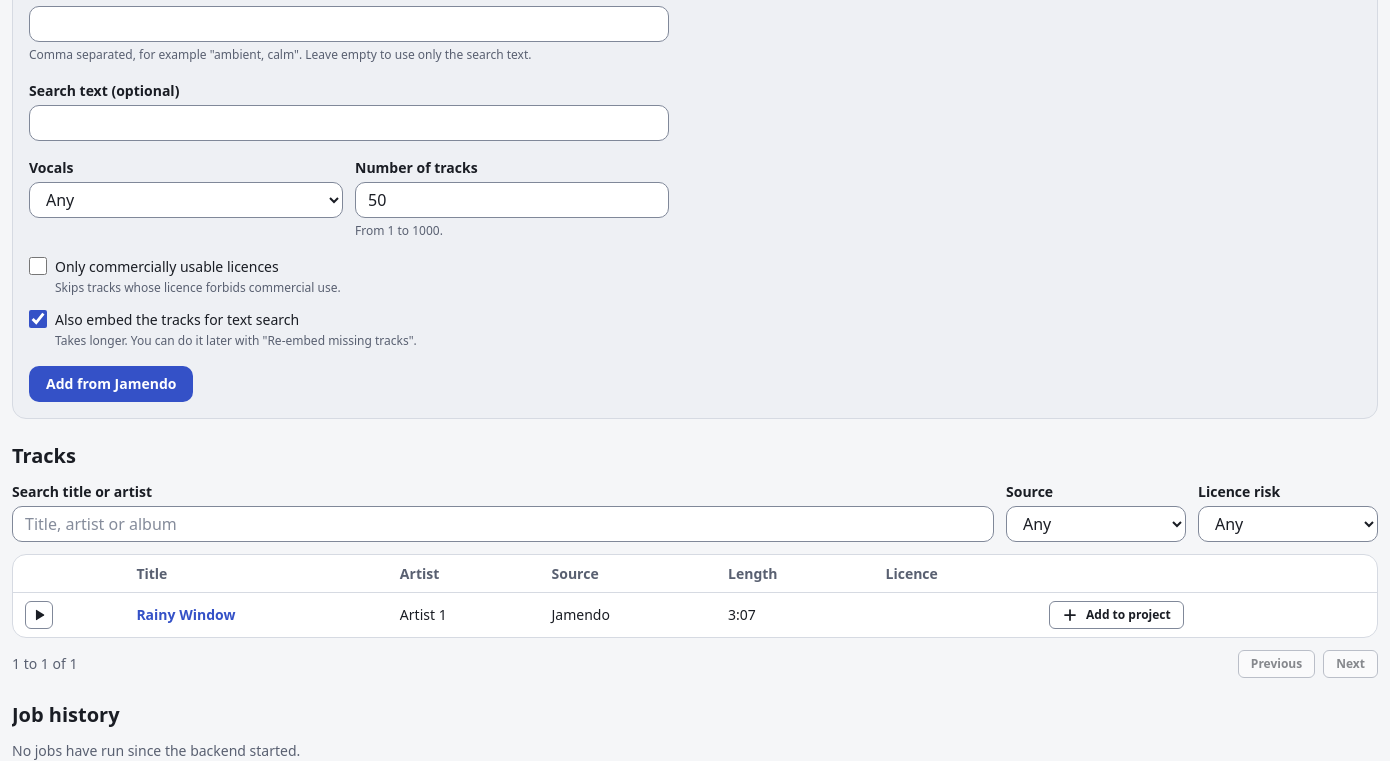
Test: Library catalog overview and tracks › the search box › says no track matches when a search finds nothing, and clearing it removes q
(page scrolled)
Expected: the table named "Tracks in the catalog" is shown, 13,554 -> 1377,636
Step 1. Type "zzz" into the search field labelled "Search title or artist" → (503, 524), box 12,506 -> 994,542
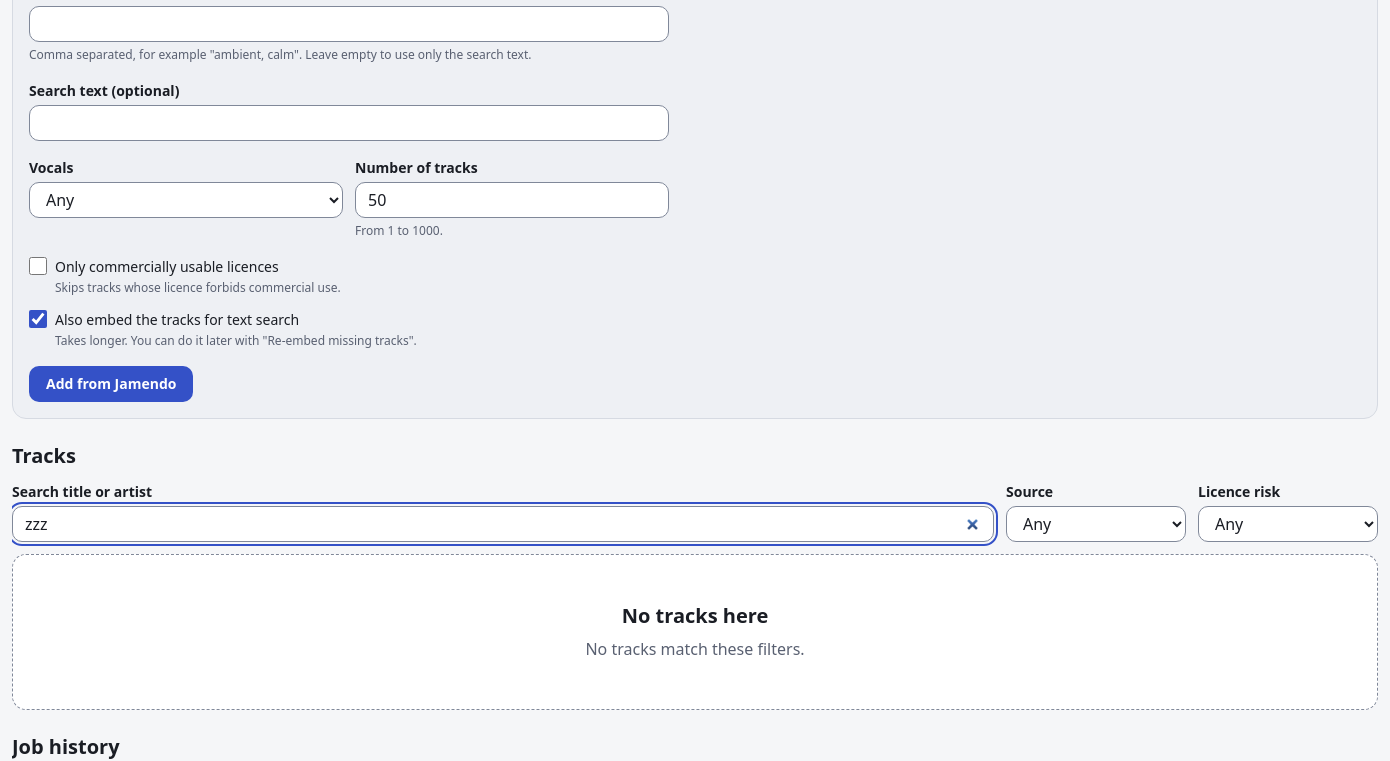
Expected: the text "No tracks match these filters." is shown, 585,636 -> 805,660
Step 2. Clear the search field labelled "Search title or artist" → (503, 524), box 12,506 -> 994,542
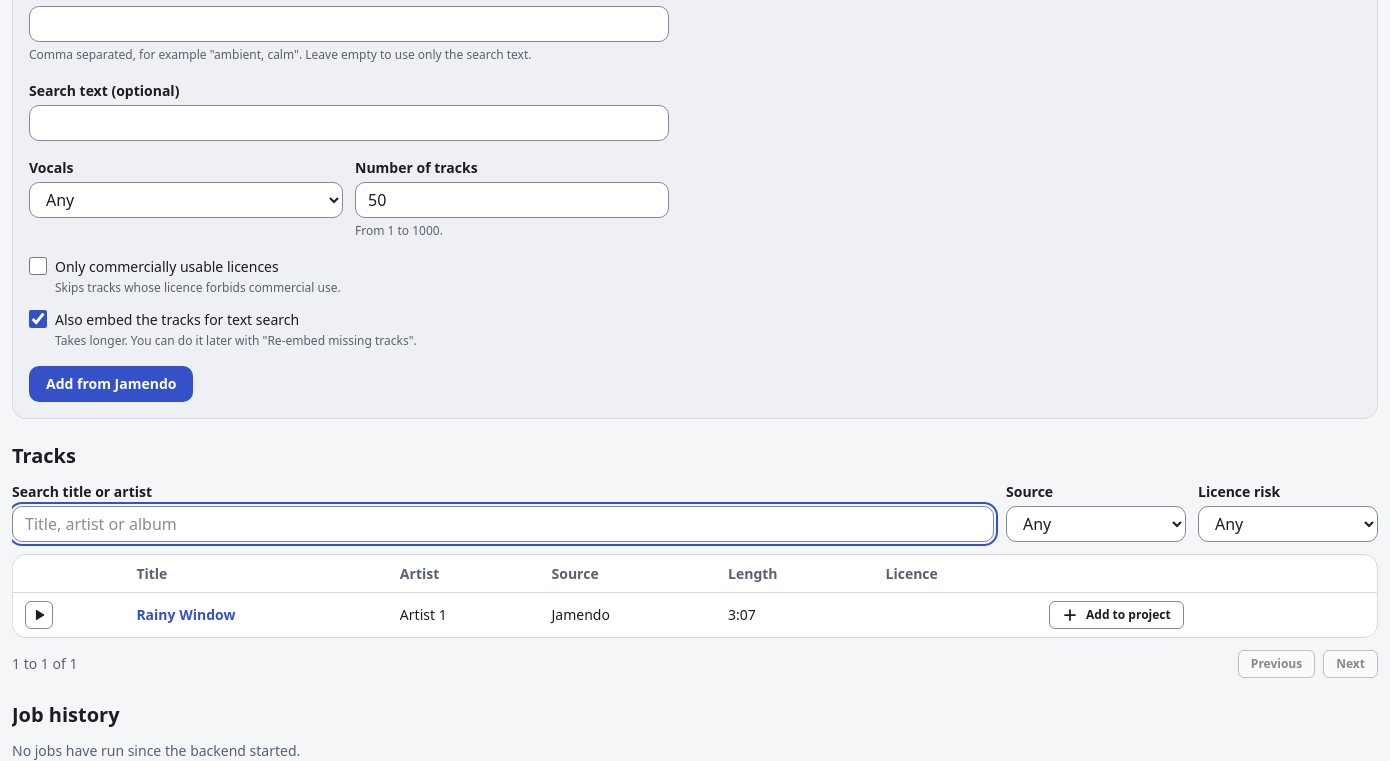
Expected: the table named "Tracks in the catalog" is shown, 13,554 -> 1377,636
